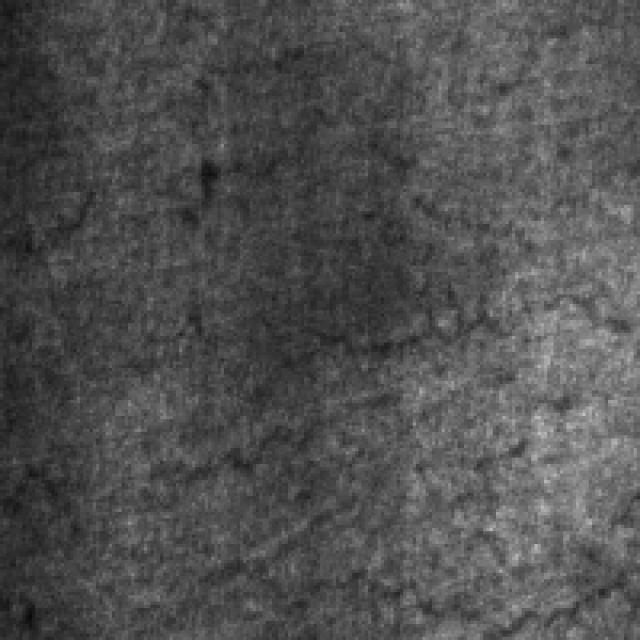crazing: (195, 308, 557, 487), (99, 83, 480, 240), (195, 525, 630, 630)
